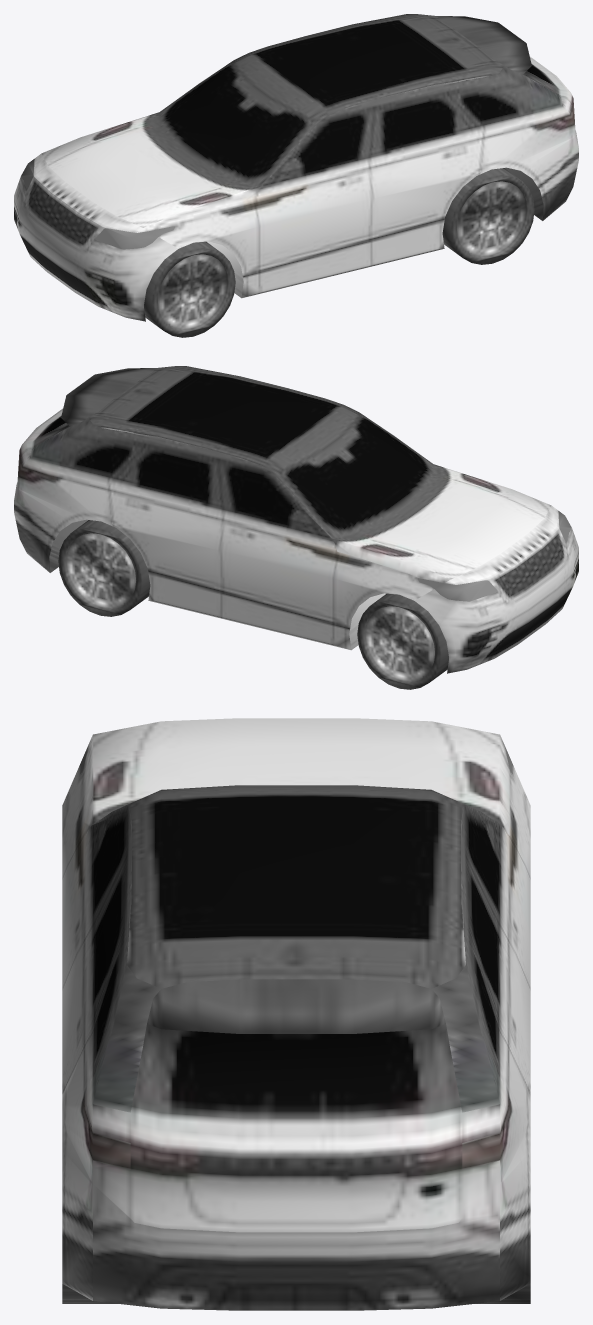
File: jlr.dae
3 renders of one model, top to bottom at view 1: azimuth 30°, elevation 25°; view 2: azimuth 150°, elevation 25°; view 3: azimuth 270°, elevation 25°, orthographic. The views are drawn at different scales.
Visible parts, largest first — view 1: group_11, group_1, group_2, group_3, group_4, group_10 (×2), group_9 (×2), group_8, group_7, group_5, group_6; view 2: group_11, group_16, group_14, group_3, group_4, group_12 (×2), group_17 (×2), group_8, group_7, group_15, group_13; view 3: group_11, group_8, group_7, group_3, group_2, group_14, group_1, group_16, group_6, group_13.
Part boxes in pixels (x1=…): group_11: x1=145, y1=14, x2=572, y2=298; group_1: x1=255, y1=107, x2=375, y2=291; group_2: x1=370, y1=92, x2=484, y2=264; group_3: x1=33, y1=112, x2=260, y2=232; group_4: x1=14, y1=175, x2=177, y2=321; group_10 (×2): x1=442, y1=168, x2=534, y2=264; group_9 (×2): x1=144, y1=241, x2=235, y2=337; group_8: x1=437, y1=16, x2=577, y2=137; group_7: x1=505, y1=124, x2=578, y2=220; group_5: x1=95, y1=226, x2=175, y2=249; group_6: x1=530, y1=105, x2=574, y2=129; group_11: x1=20, y1=366, x2=447, y2=650; group_16: x1=217, y1=459, x2=337, y2=643; group_14: x1=108, y1=444, x2=222, y2=616; group_3: x1=332, y1=464, x2=559, y2=584; group_4: x1=415, y1=527, x2=578, y2=673; group_12 (×2): x1=58, y1=520, x2=150, y2=616; group_17 (×2): x1=357, y1=593, x2=448, y2=689; group_8: x1=15, y1=368, x2=155, y2=489; group_7: x1=14, y1=476, x2=87, y2=572; group_15: x1=417, y1=578, x2=497, y2=601; group_13: x1=18, y1=457, x2=62, y2=481; group_11: x1=62, y1=765, x2=530, y2=1204; group_8: x1=130, y1=979, x2=462, y2=1232; group_7: x1=62, y1=1158, x2=530, y2=1310; group_3: x1=83, y1=718, x2=509, y2=835; group_2: x1=62, y1=859, x2=126, y2=1093; group_14: x1=466, y1=859, x2=530, y2=1093; group_1: x1=62, y1=813, x2=127, y2=987; group_16: x1=465, y1=813, x2=530, y2=987; group_6: x1=81, y1=1092, x2=130, y2=1169; group_13: x1=462, y1=1092, x2=511, y2=1169.
Size of the model in its own units: 1140 by 466 by 396.
Materials: 2 (1 with a texture image).
